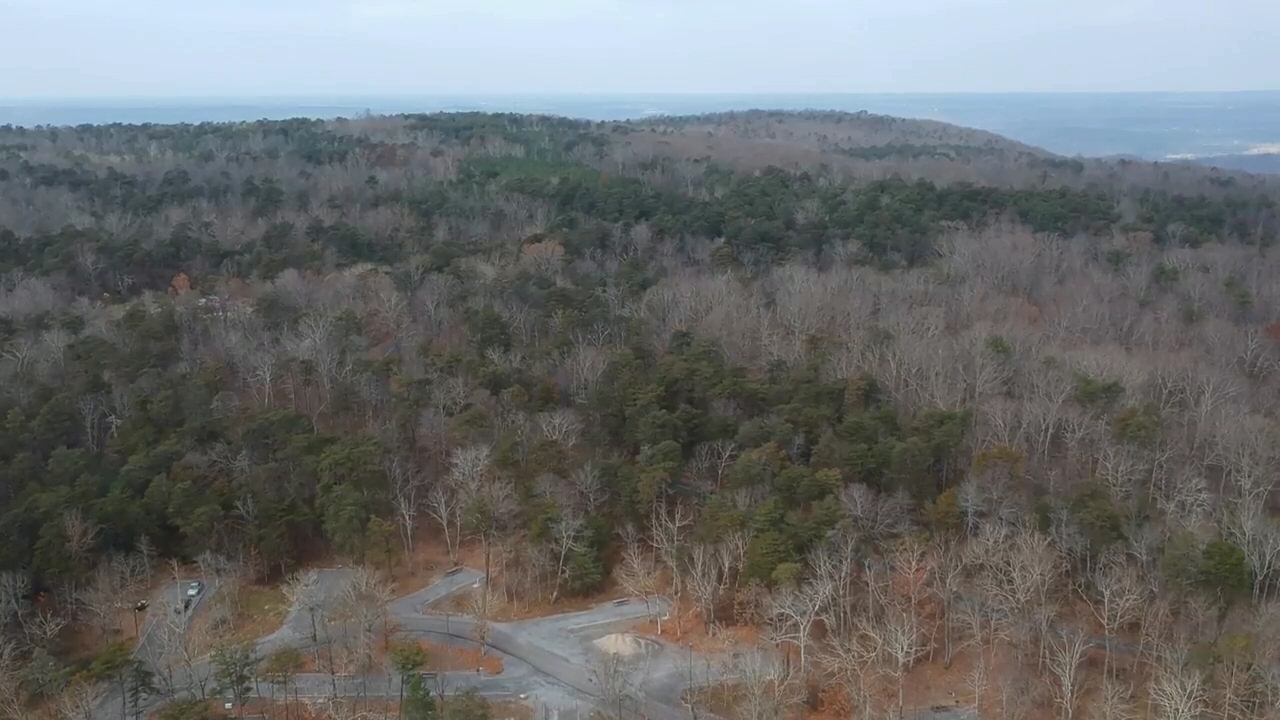araba: (186, 578, 203, 597)
